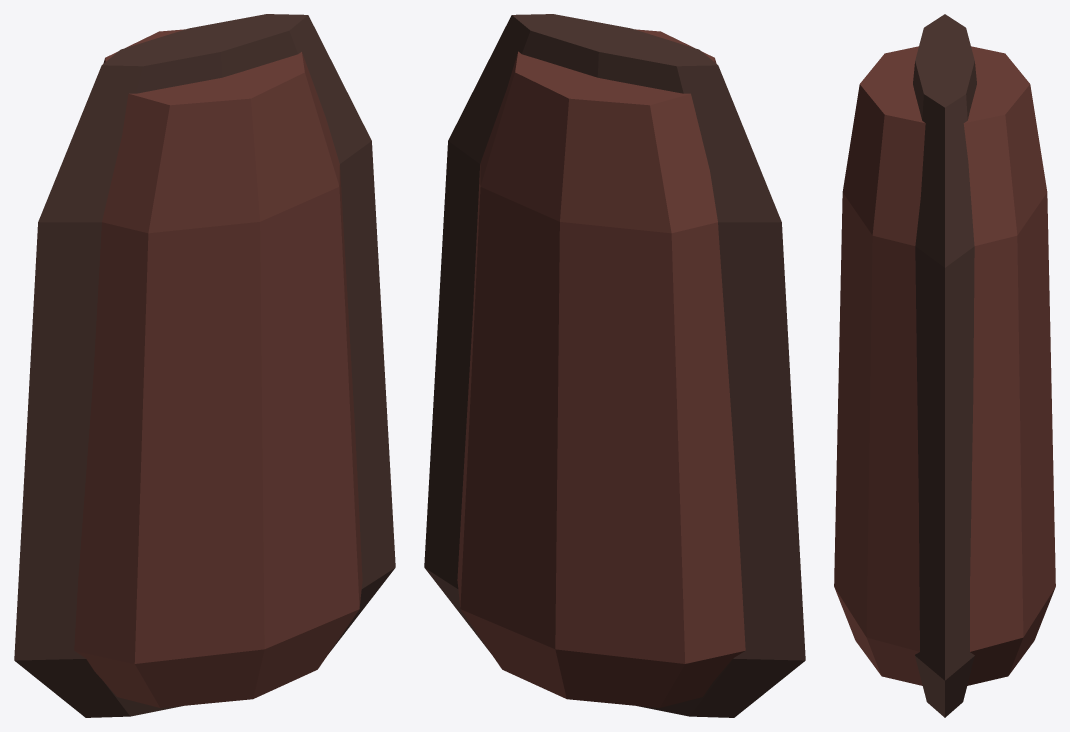
File: death.glb
3 views of the same model, side by side, from view 1: azimuth 30°, elevation 25°; view 2: azimuth 150°, elevation 25°; view 3: azimuth 270°, elevation 25° (orthographic). The views are drawn at different scales.
Visible parts, largest first — view 1: death_tunic, death_shroud; view 2: death_tunic, death_shroud; view 3: death_tunic, death_shroud.
Part boxes in pixels (x1,y1,x2,y2): death_tunic: (74,29,362,707); death_shroud: (14,14,395,717); death_tunic: (457,29,745,707); death_shroud: (424,14,805,717); death_tunic: (834,46,1055,685); death_shroud: (913,14,976,717).
Size of the model in its own units: 0.48 by 0.78 by 0.26.
